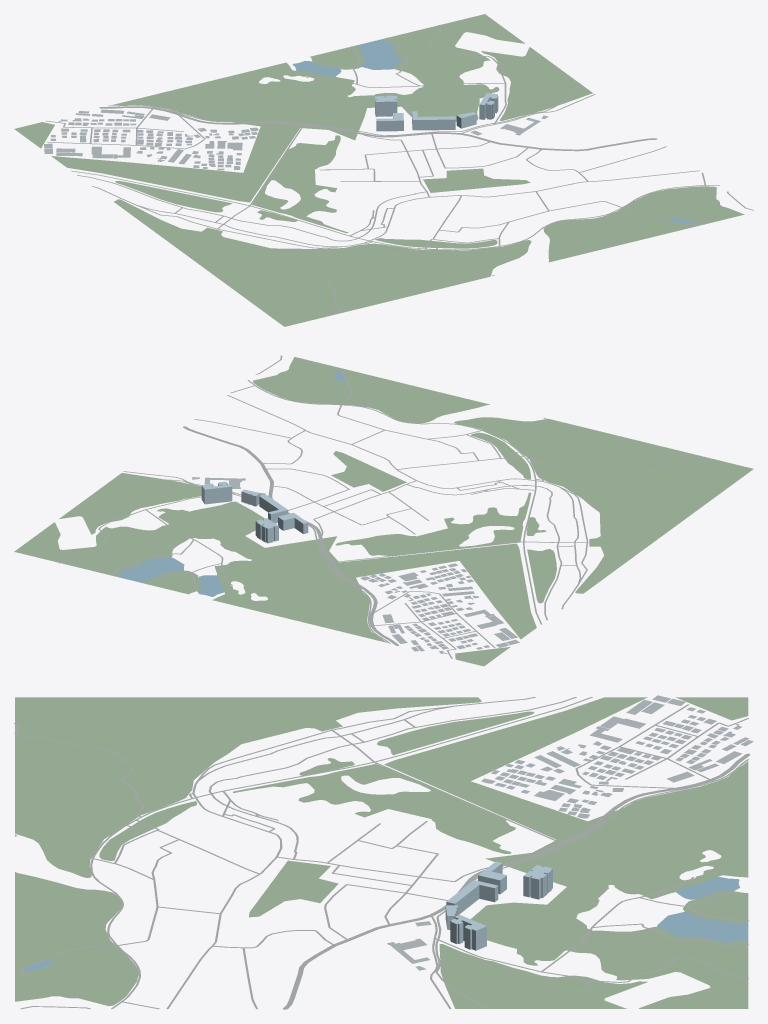
File: 16_6-known-coarse.glb
The picture shows the model from 3 angles, top to bottom: view 1: azimuth 30°, elevation 25°; view 2: azimuth 150°, elevation 25°; view 3: azimuth 270°, elevation 25°; orthographic projection. The views are drawn at different scales.
Size of the model in its own units: 1009 by 30 by 1004.
